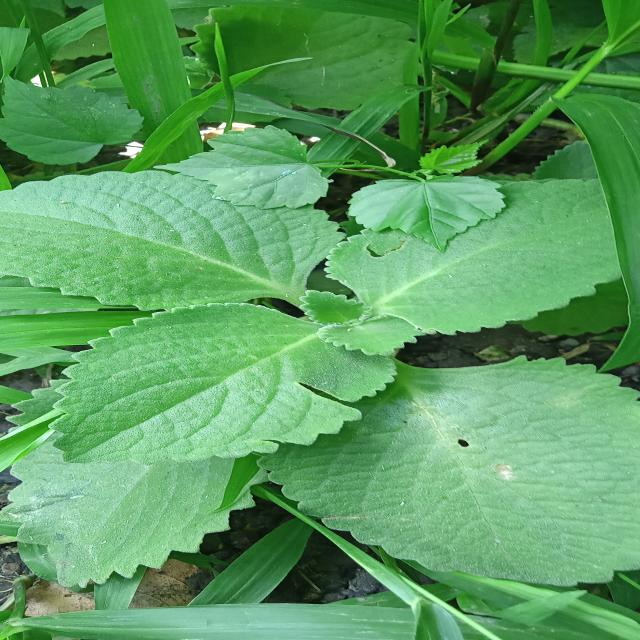Oregano: (216, 346, 640, 594), (0, 280, 444, 471), (8, 206, 254, 308)
